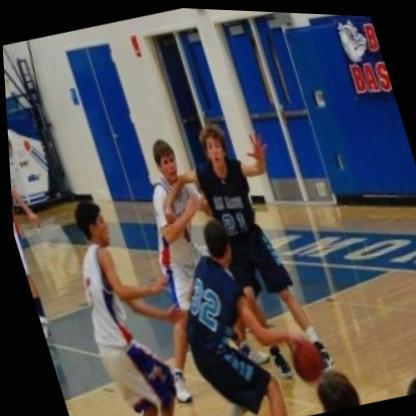basketball: (273, 325, 329, 386)
